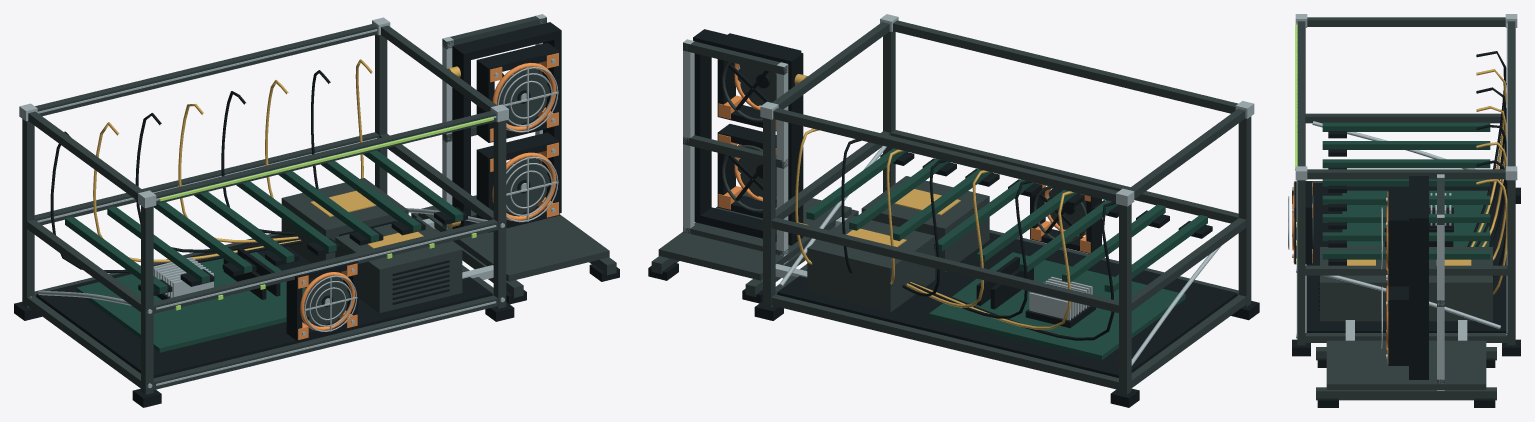
The model's file is rig-runtime-8-none-air.glb.
3 renders of one model, left to right at view 1: azimuth 30°, elevation 25°; view 2: azimuth 150°, elevation 25°; view 3: azimuth 270°, elevation 25°, orthographic. The views are drawn at different scales.
Visible parts, largest first — view 1: Anodized graphite (×5), Rubber and ABS (×5), Circuit board, Brushed aluminium (×5), Industrial orange (×3), rig-runtime-8-none-air, Contacts, slot-cable-1, slot-cable-2, slot-cable-3, slot-cable-4, slot-cable-5; view 2: Anodized graphite (×4), Rubber and ABS (×5), Circuit board, Brushed aluminium (×2), Industrial orange (×3), Contacts, slot-cable-1, slot-cable-2, slot-cable-3, slot-cable-4, slot-cable-5; view 3: Anodized graphite (×2), Rubber and ABS (×6), Circuit board, Brushed aluminium (×2), Industrial orange (×2), slot-cable-1, slot-cable-2, slot-cable-3, rig-runtime-8-none-air, Contacts, slot-cable-4, slot-cable-8 (+3 smaller).
Boxes of the visible parts, <box> form: Anodized graphite (×5): <box>22,16,616,394</box>; Rubber and ABS (×5): <box>14,22,561,407</box>; Circuit board: <box>65,150,463,352</box>; Brushed aluminium (×5): <box>19,14,558,388</box>; Industrial orange (×3): <box>298,53,558,339</box>; rig-runtime-8-none-air: <box>159,117,493,201</box>; Contacts: <box>310,190,423,248</box>; slot-cable-1: <box>50,131,302,272</box>; slot-cable-2: <box>93,122,300,262</box>; slot-cable-3: <box>135,113,300,252</box>; slot-cable-4: <box>178,104,298,242</box>; slot-cable-5: <box>221,91,294,234</box>; Anodized graphite (×4): <box>651,20,1251,394</box>; Rubber and ABS (×5): <box>693,29,1259,407</box>; Circuit board: <box>806,148,1207,359</box>; Brushed aluminium (×2): <box>683,14,1254,365</box>; Industrial orange (×3): <box>718,63,1090,253</box>; Contacts: <box>846,189,960,247</box>; slot-cable-1: <box>911,201,1115,340</box>; slot-cable-2: <box>910,191,1074,329</box>; slot-cable-3: <box>908,180,1031,318</box>; slot-cable-4: <box>906,170,988,307</box>; slot-cable-5: <box>902,160,946,296</box>; Anodized graphite (×2): <box>1297,17,1515,400</box>; Rubber and ABS (×6): <box>1292,131,1520,407</box>; Circuit board: <box>1322,122,1490,259</box>; Brushed aluminium (×2): <box>1295,14,1517,390</box>; Industrial orange (×2): <box>1292,182,1388,284</box>; slot-cable-1: <box>1467,51,1506,246</box>; slot-cable-2: <box>1470,69,1506,246</box>; slot-cable-3: <box>1475,87,1506,246</box>; rig-runtime-8-none-air: <box>1295,24,1297,170</box>; Contacts: <box>1347,259,1471,265</box>; slot-cable-4: <box>1476,106,1506,246</box>; slot-cable-8: <box>1476,179,1507,294</box>.
Size of the model in its own units: 8.02 by 3.32 by 3.72.
